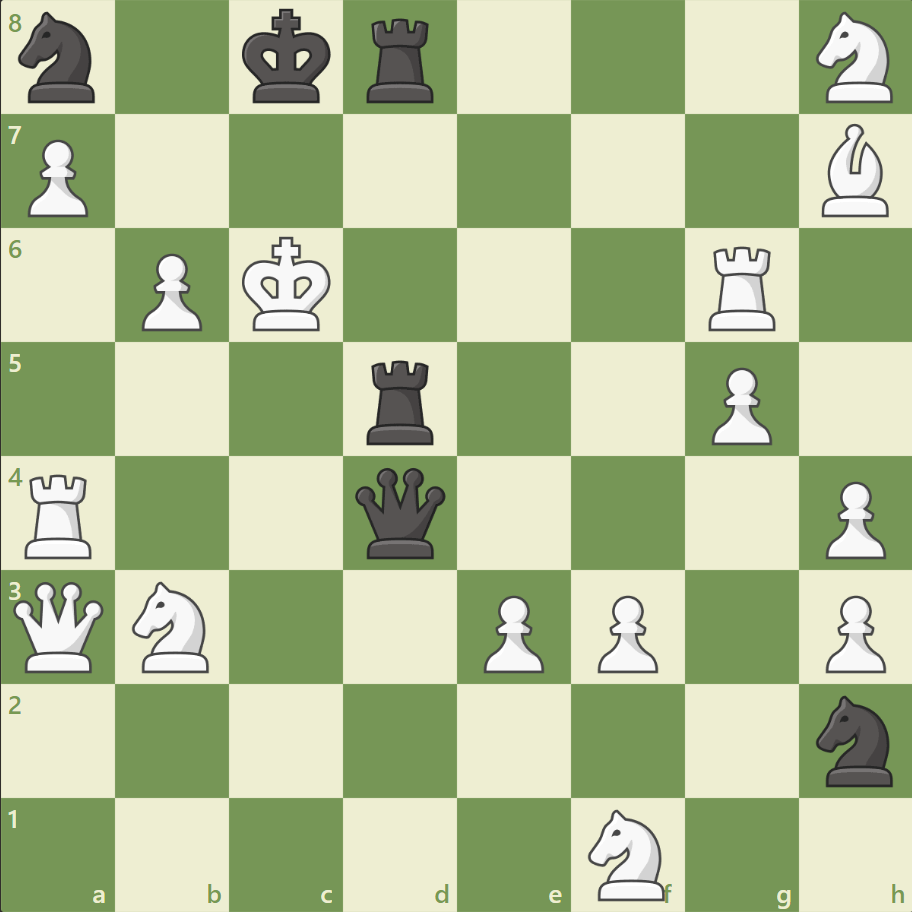B: (812, 120, 896, 222)
K: (238, 231, 338, 339)
N: (124, 575, 222, 677), (806, 7, 903, 110), (579, 802, 676, 904)
P: (20, 132, 95, 223), (133, 246, 208, 337), (701, 359, 776, 450), (474, 586, 549, 677), (815, 473, 889, 564), (588, 586, 662, 677), (815, 586, 889, 677)
Q: (10, 576, 109, 676)
R: (700, 239, 783, 336), (19, 466, 102, 563)
k: (238, 4, 338, 112)
n: (11, 7, 108, 110), (806, 688, 903, 791)
q: (351, 463, 450, 562)
r: (360, 12, 442, 109), (360, 352, 442, 449)
